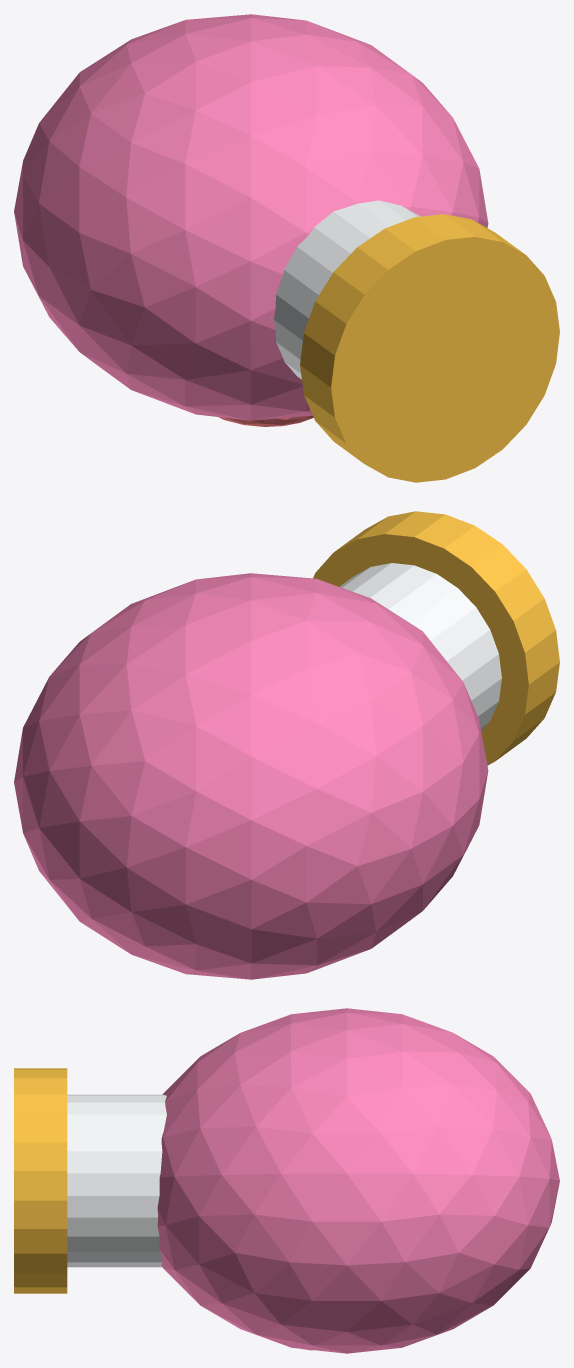
File: health_potion.glb
3 views of the same model, one above another, from view 1: azimuth 30°, elevation 25°; view 2: azimuth 150°, elevation 25°; view 3: azimuth 270°, elevation 25° (orthographic). The views are drawn at different scales.
Parts seen in each view (by area): view 1: pink, gold, white, red; view 2: pink, gold, white; view 3: pink, white, gold.
Part boxes in pixels (box(x1,y1,x2,y2)): pink: box(14, 14, 488, 420); gold: box(300, 214, 559, 482); white: box(274, 200, 420, 379); red: box(218, 415, 313, 426); pink: box(14, 573, 488, 979); gold: box(313, 511, 559, 765); white: box(339, 563, 501, 730); pink: box(157, 1008, 559, 1353); white: box(67, 1094, 166, 1267); gold: box(14, 1068, 67, 1293).
Bounding box in the file's own units: 0.6 × 0.51 × 0.82.
